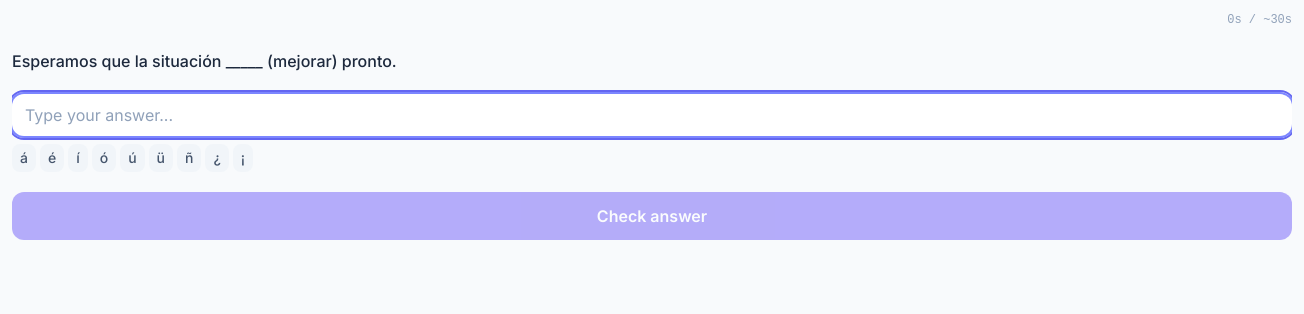
ExerciseRenderer — text input (cloze) › shows feedback after typing and clicking Check
In the field with placeholder "Type your answer...": (652, 115) x1=12 y1=94 x2=1292 y2=136, type "mejore"
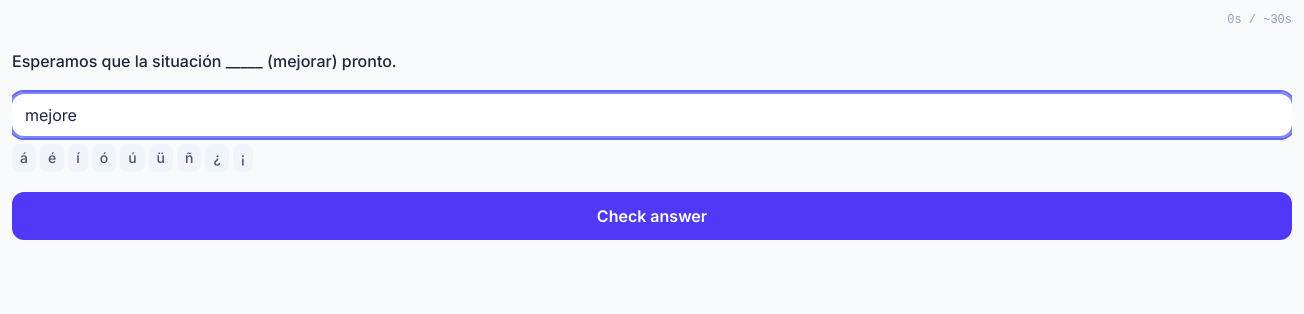
Click the button "Check answer": (652, 216) x1=12 y1=192 x2=1292 y2=240
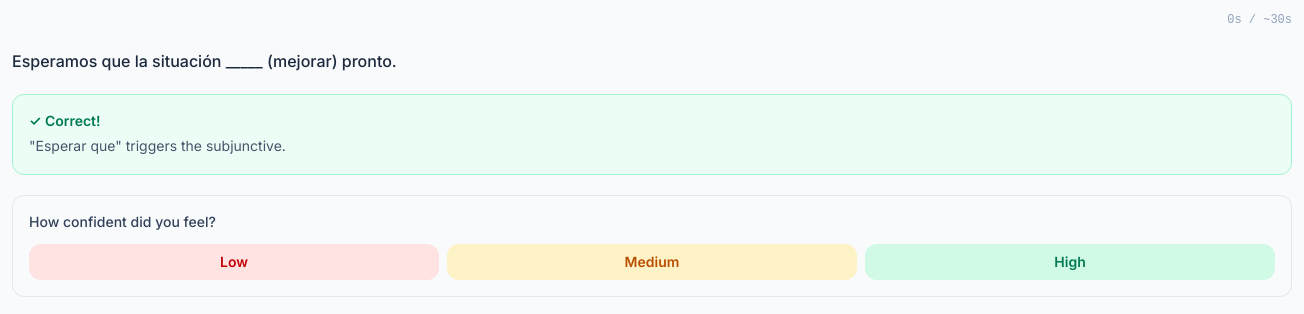
Expected: the element with test id "exercise-feedback" is shown, x1=12 y1=94 x2=1292 y2=175
Expected: the text "✓ Correct!" is shown, x1=29 y1=112 x2=101 y2=129
